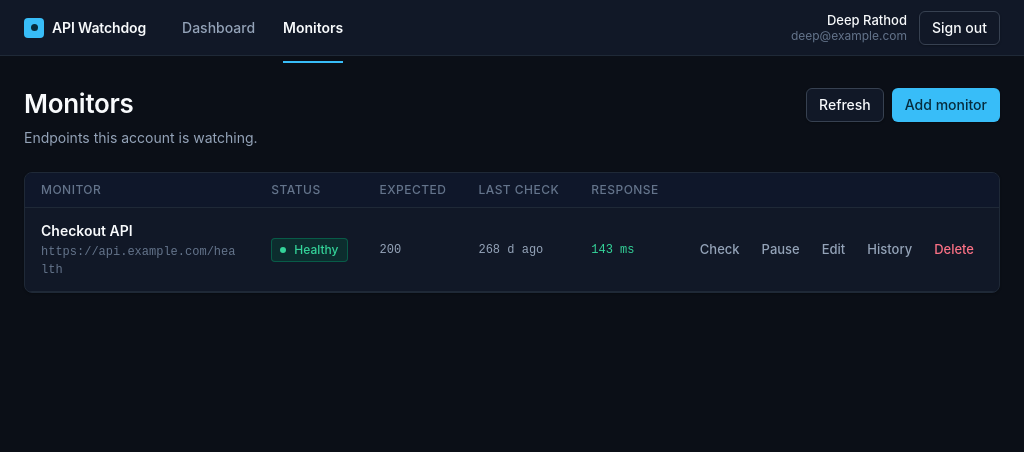
Test: manual check › shows a timed-out target with no HTTP status
The image size is (1024, 452).
Expected: the text "Checkout API" is shown, [41, 222, 133, 239]
Click the button with aria-label "Check Checkout API now" at [720, 250], box [691, 236, 749, 264]
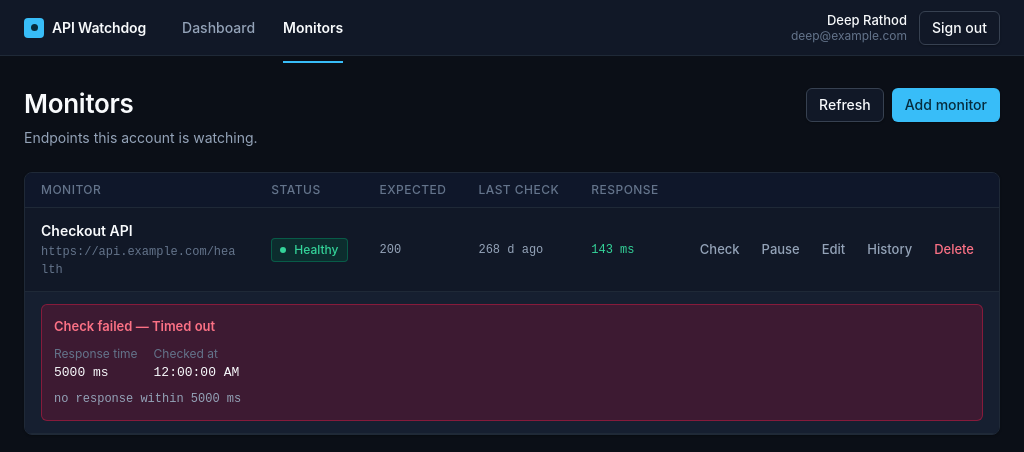
Result: the message shows "Timed out" at [132, 318, 215, 334]
